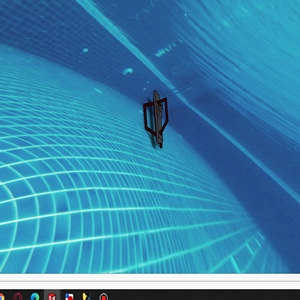submarine: (143, 91, 170, 146)
